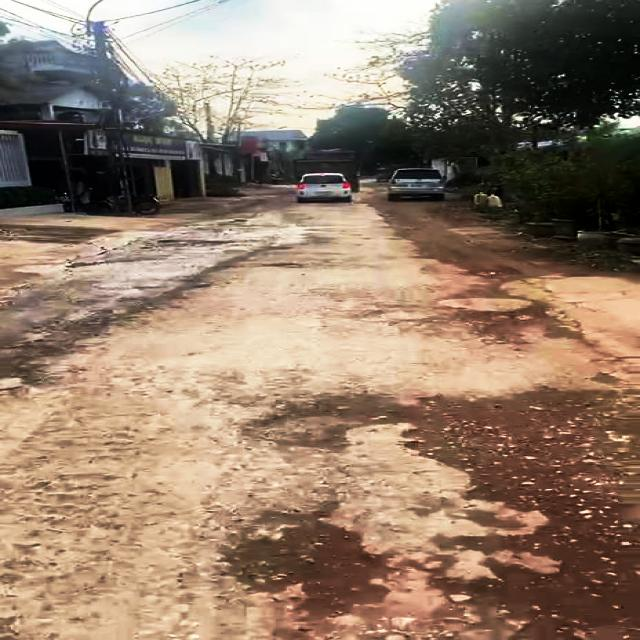pothole: (397, 396, 640, 522), (434, 517, 640, 640), (214, 512, 392, 625), (247, 398, 381, 454)
